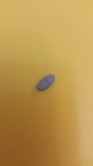Majezik: (37, 73, 55, 92)
